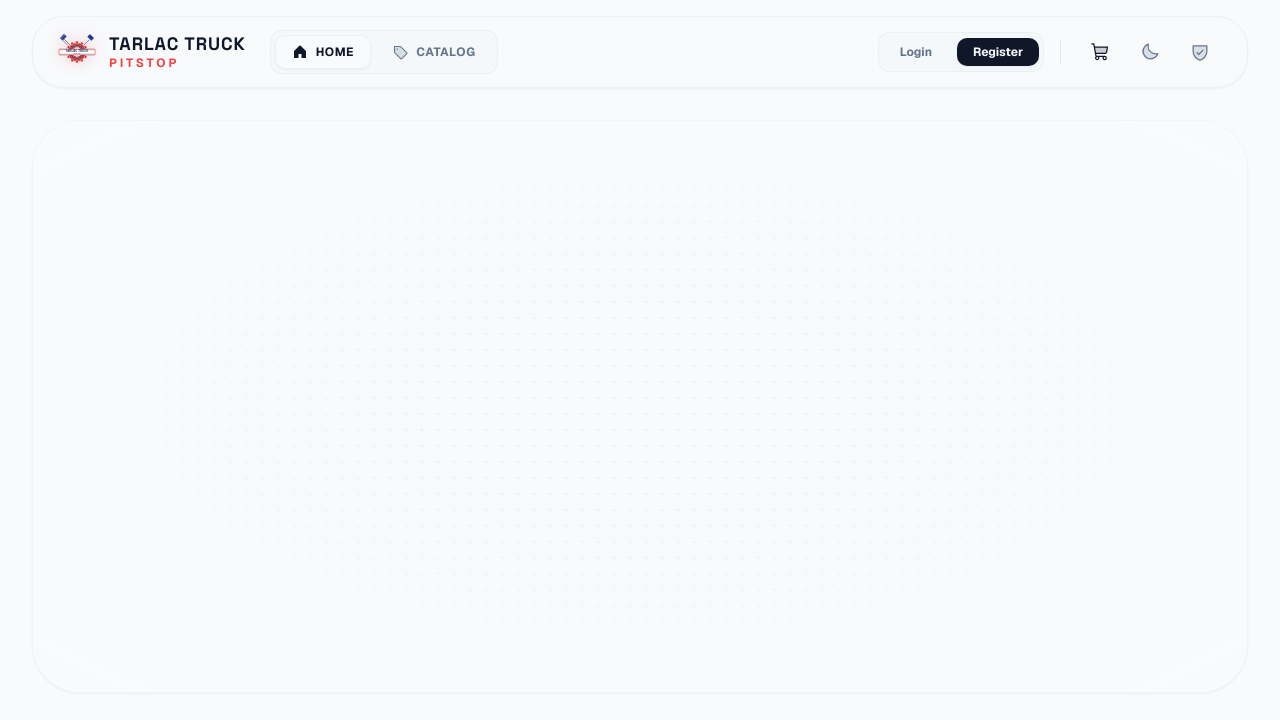
Test: CustomerStorefront Component Tests › opens product details modal when part is clicked
Note: Go to catalog tab
Click the button "Catalog" at (434, 52), box top-left (375, 35), bottom-right (493, 69)
(page scrolled)
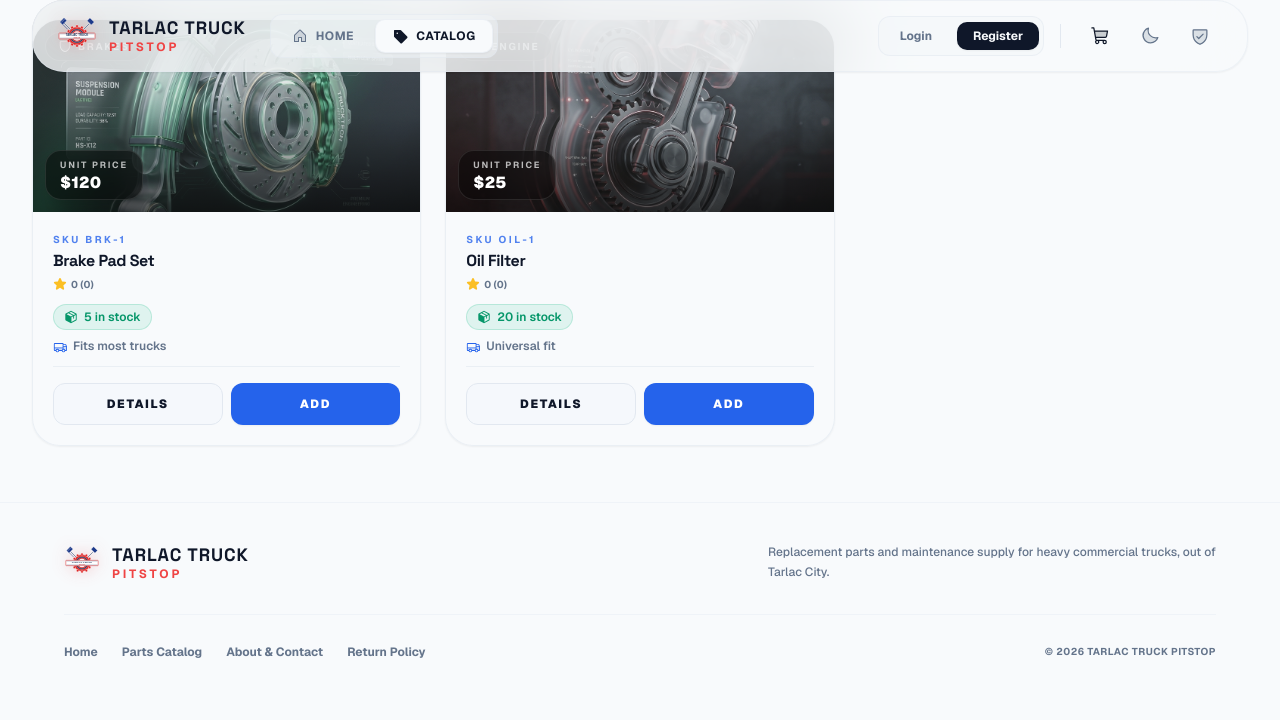
Click the button "Details" below "Fits most trucks" at (138, 404), box top-left (53, 383), bottom-right (223, 425)
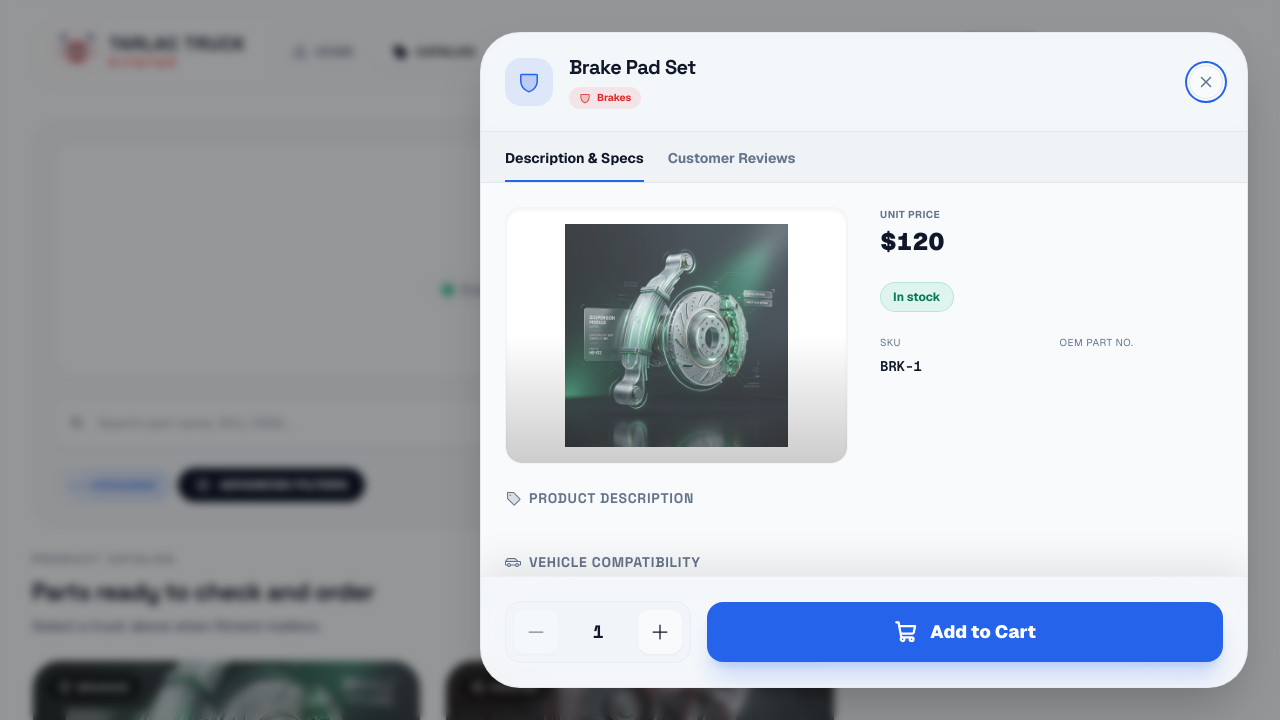
Now the button named "close part details" is shown, box top-left (1189, 65), bottom-right (1223, 99)
